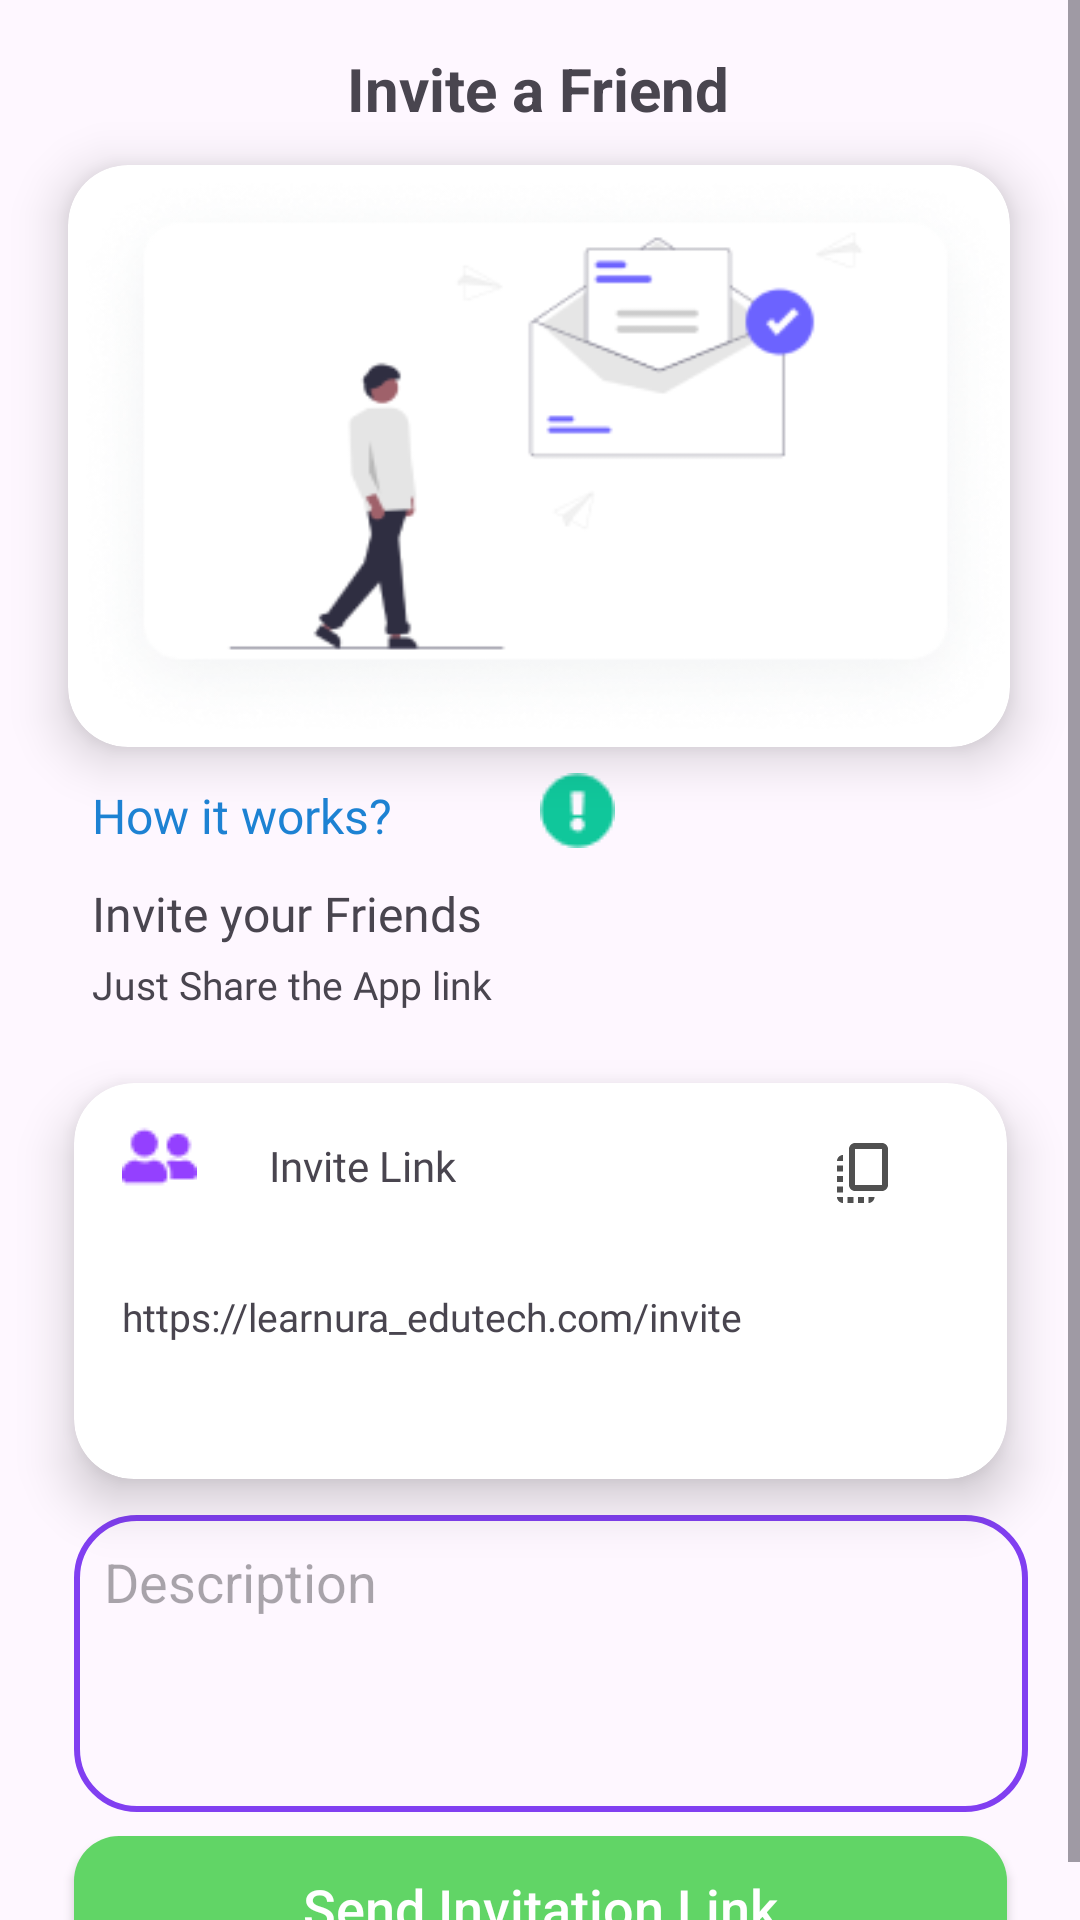

Named icons in this screenshot (1080×1920) and their bounding boxes, (x1, y1, x2, y2):
clipboard: (837, 1143, 888, 1203)
